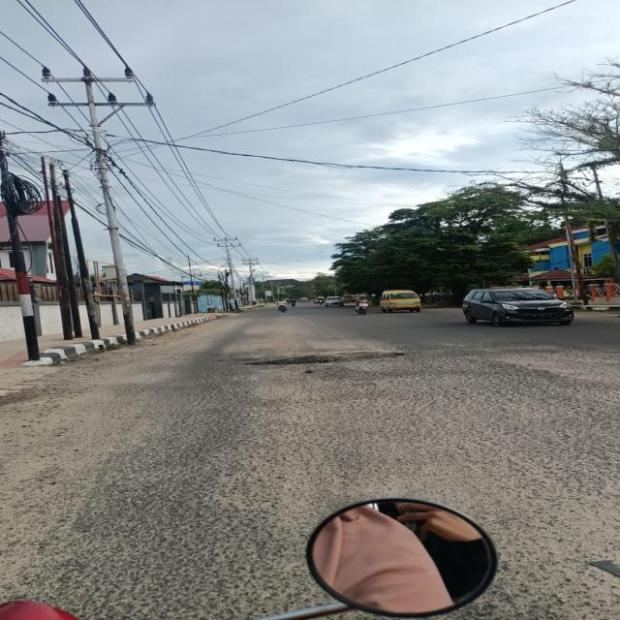lubang: (234, 352, 404, 365)
